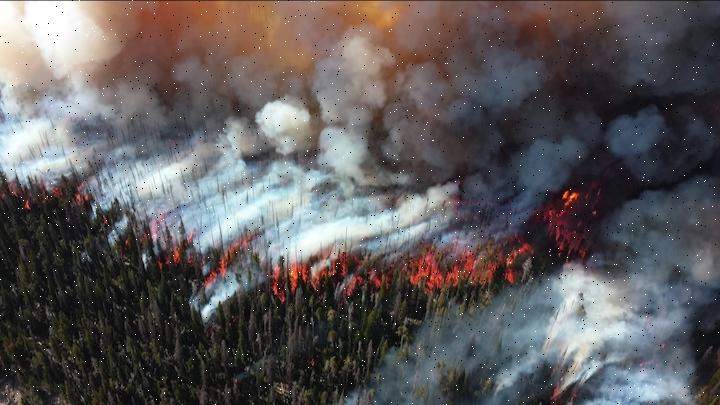fire: (393, 156, 626, 310), (175, 214, 382, 318)
